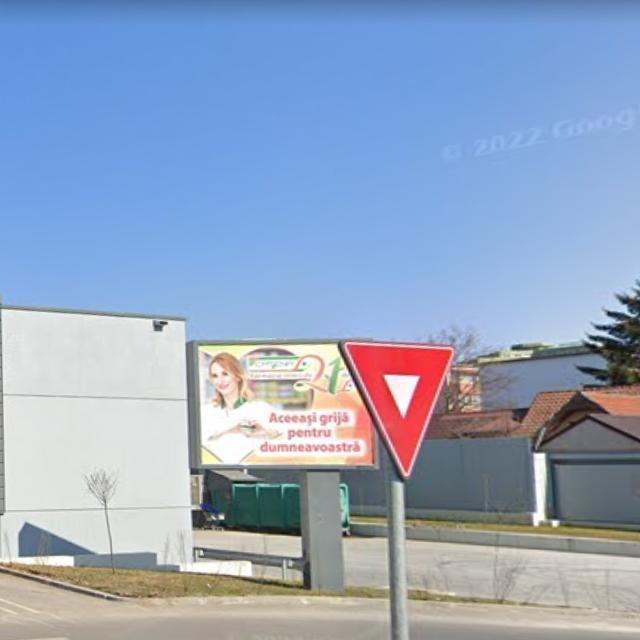prio_give_way: (341, 338, 454, 478)
